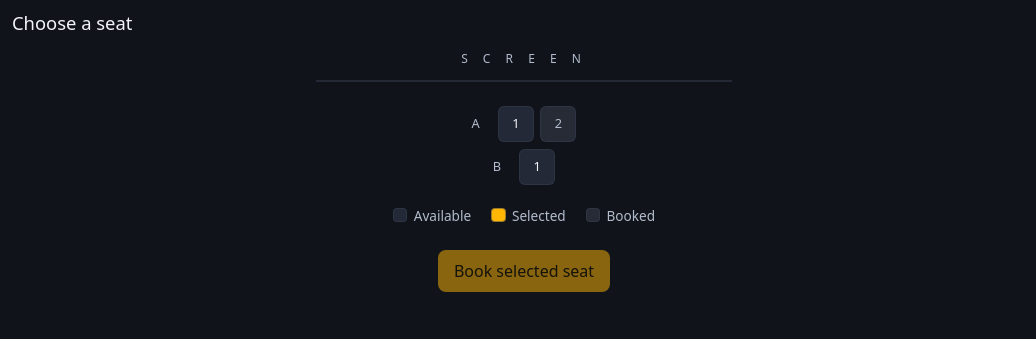
it: SeatMap › moves focus to the announcement after a failure in booking
Click the button named "row a, seat 1, available". click: x=516, y=124
box: [498,106,534,142]
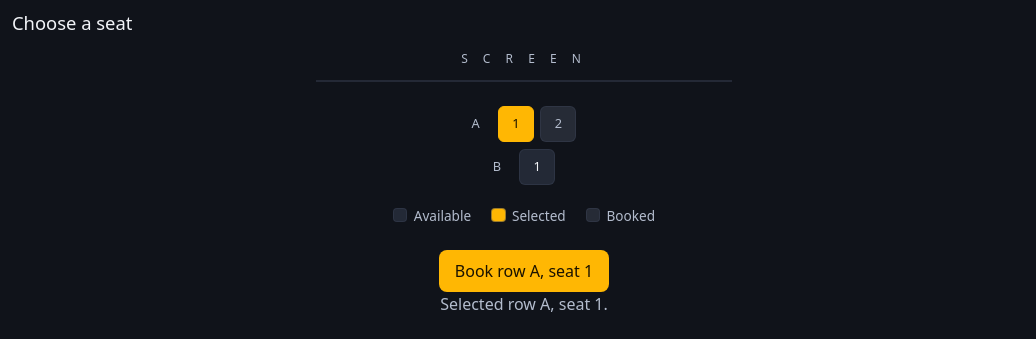
Click the button "Book row A, seat 1". click: x=524, y=271
box: [440,250,609,292]
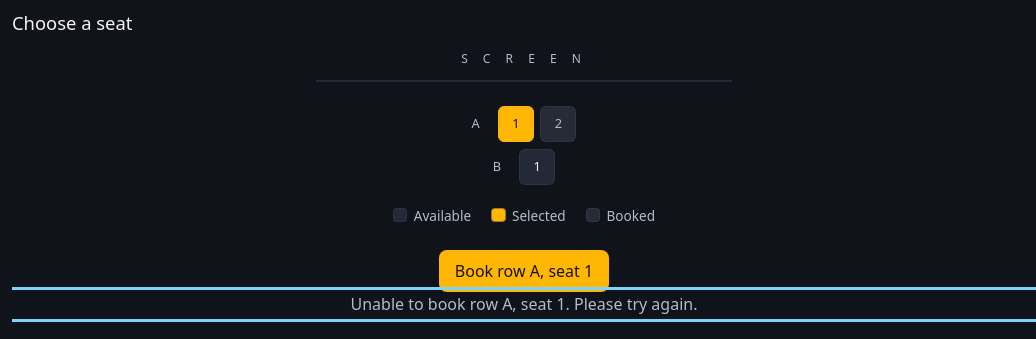
Expected: the message reads "Unable to book row A, seat 1. Please try again.", [350,293,698,315]
